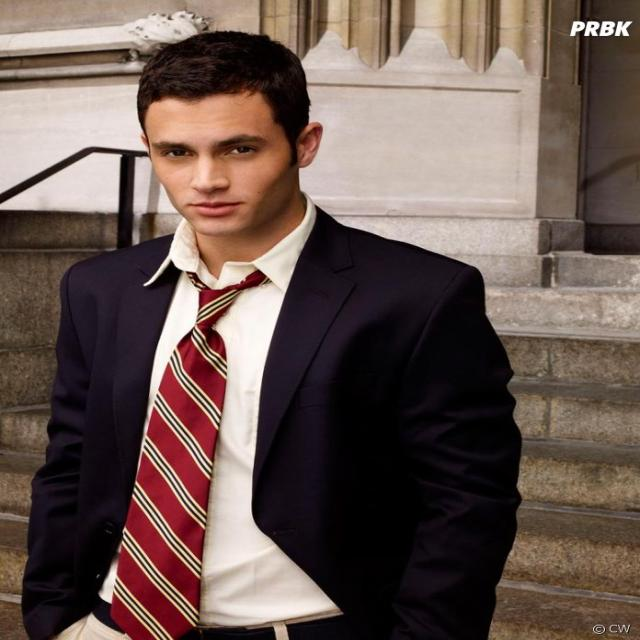human: (18, 35, 524, 640)
